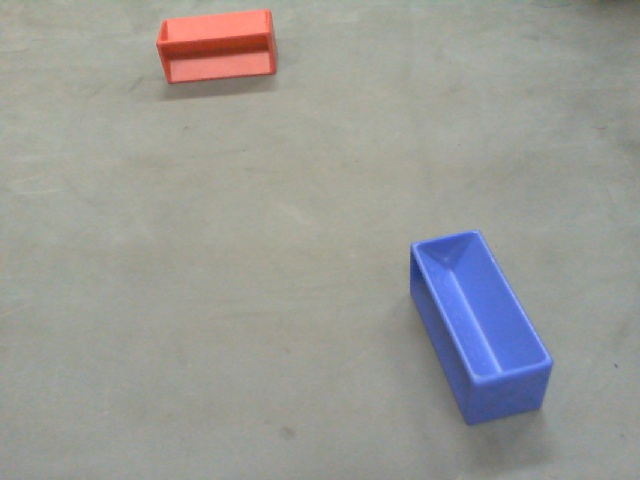BlueSample: (405, 229, 552, 430)
RedSample: (149, 6, 283, 84)
